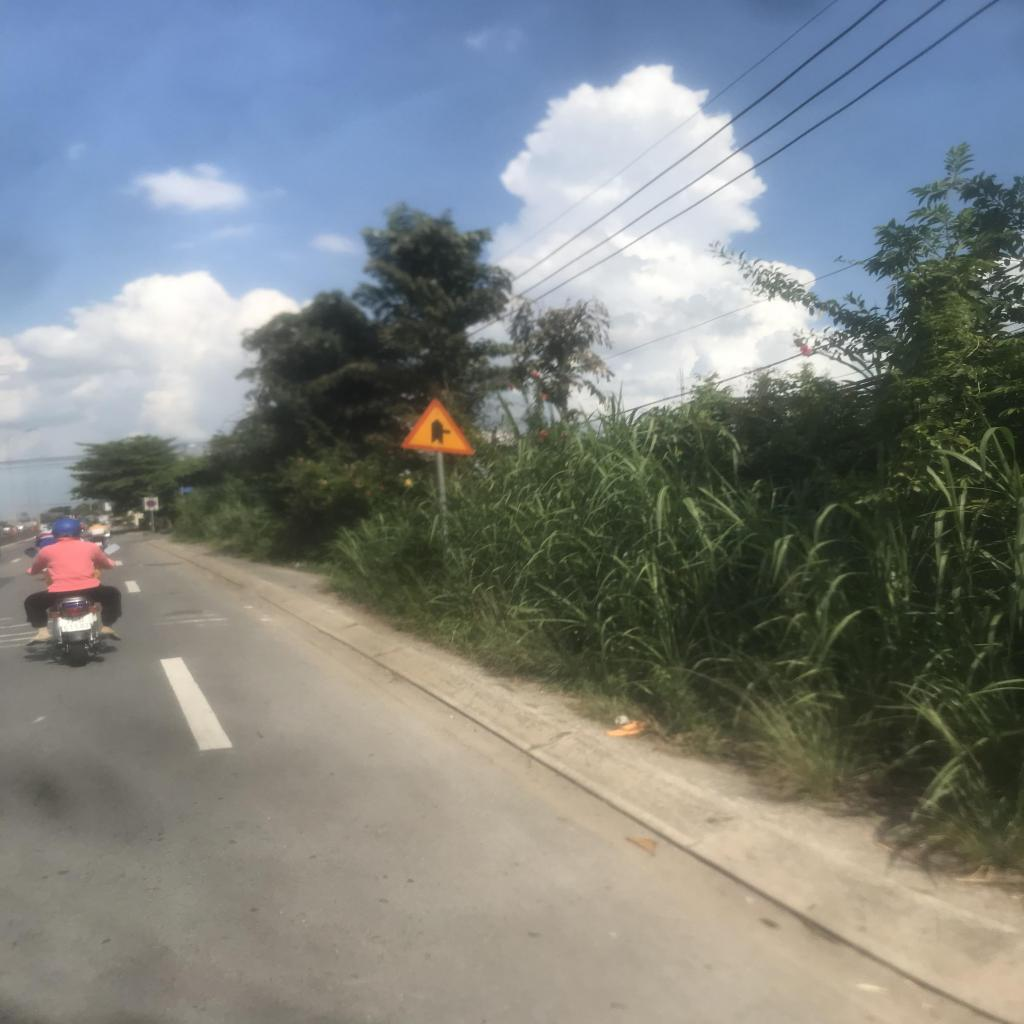cam_do_xe: (146, 500, 156, 507)
giao_nhau_voi_duong_khong_uu_tien: (400, 398, 480, 456)
